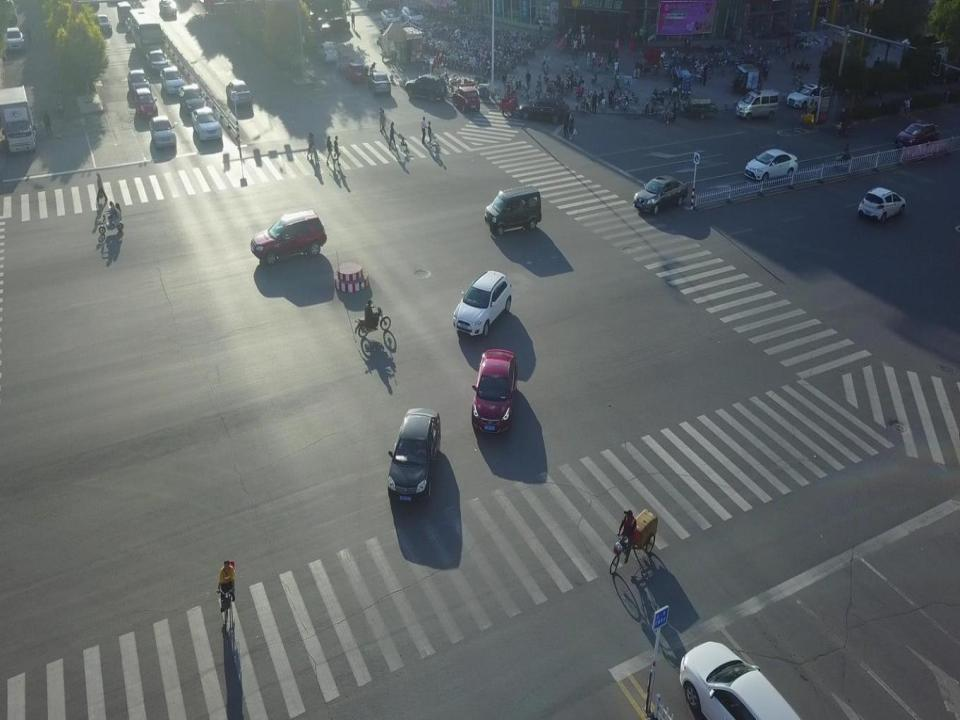bus: (129, 8, 166, 61)
car: (678, 641, 804, 720), (387, 406, 442, 502), (251, 209, 326, 265), (452, 269, 512, 338), (471, 349, 519, 435), (0, 83, 37, 158), (633, 174, 689, 216), (856, 185, 905, 222), (744, 148, 798, 180), (895, 120, 940, 152), (518, 97, 570, 124), (406, 73, 447, 100), (786, 84, 826, 110), (192, 106, 222, 140), (178, 82, 206, 116), (150, 115, 176, 147), (3, 22, 25, 58), (451, 86, 480, 111), (135, 87, 158, 118), (225, 79, 252, 105), (160, 65, 184, 94), (145, 48, 169, 75), (127, 70, 151, 93), (368, 72, 391, 96), (321, 17, 350, 34), (401, 6, 423, 28), (317, 40, 337, 64), (345, 62, 365, 85), (92, 13, 112, 35), (380, 8, 401, 28), (159, 0, 178, 17), (117, 1, 132, 22)
van: (485, 185, 542, 236), (736, 90, 780, 121)
